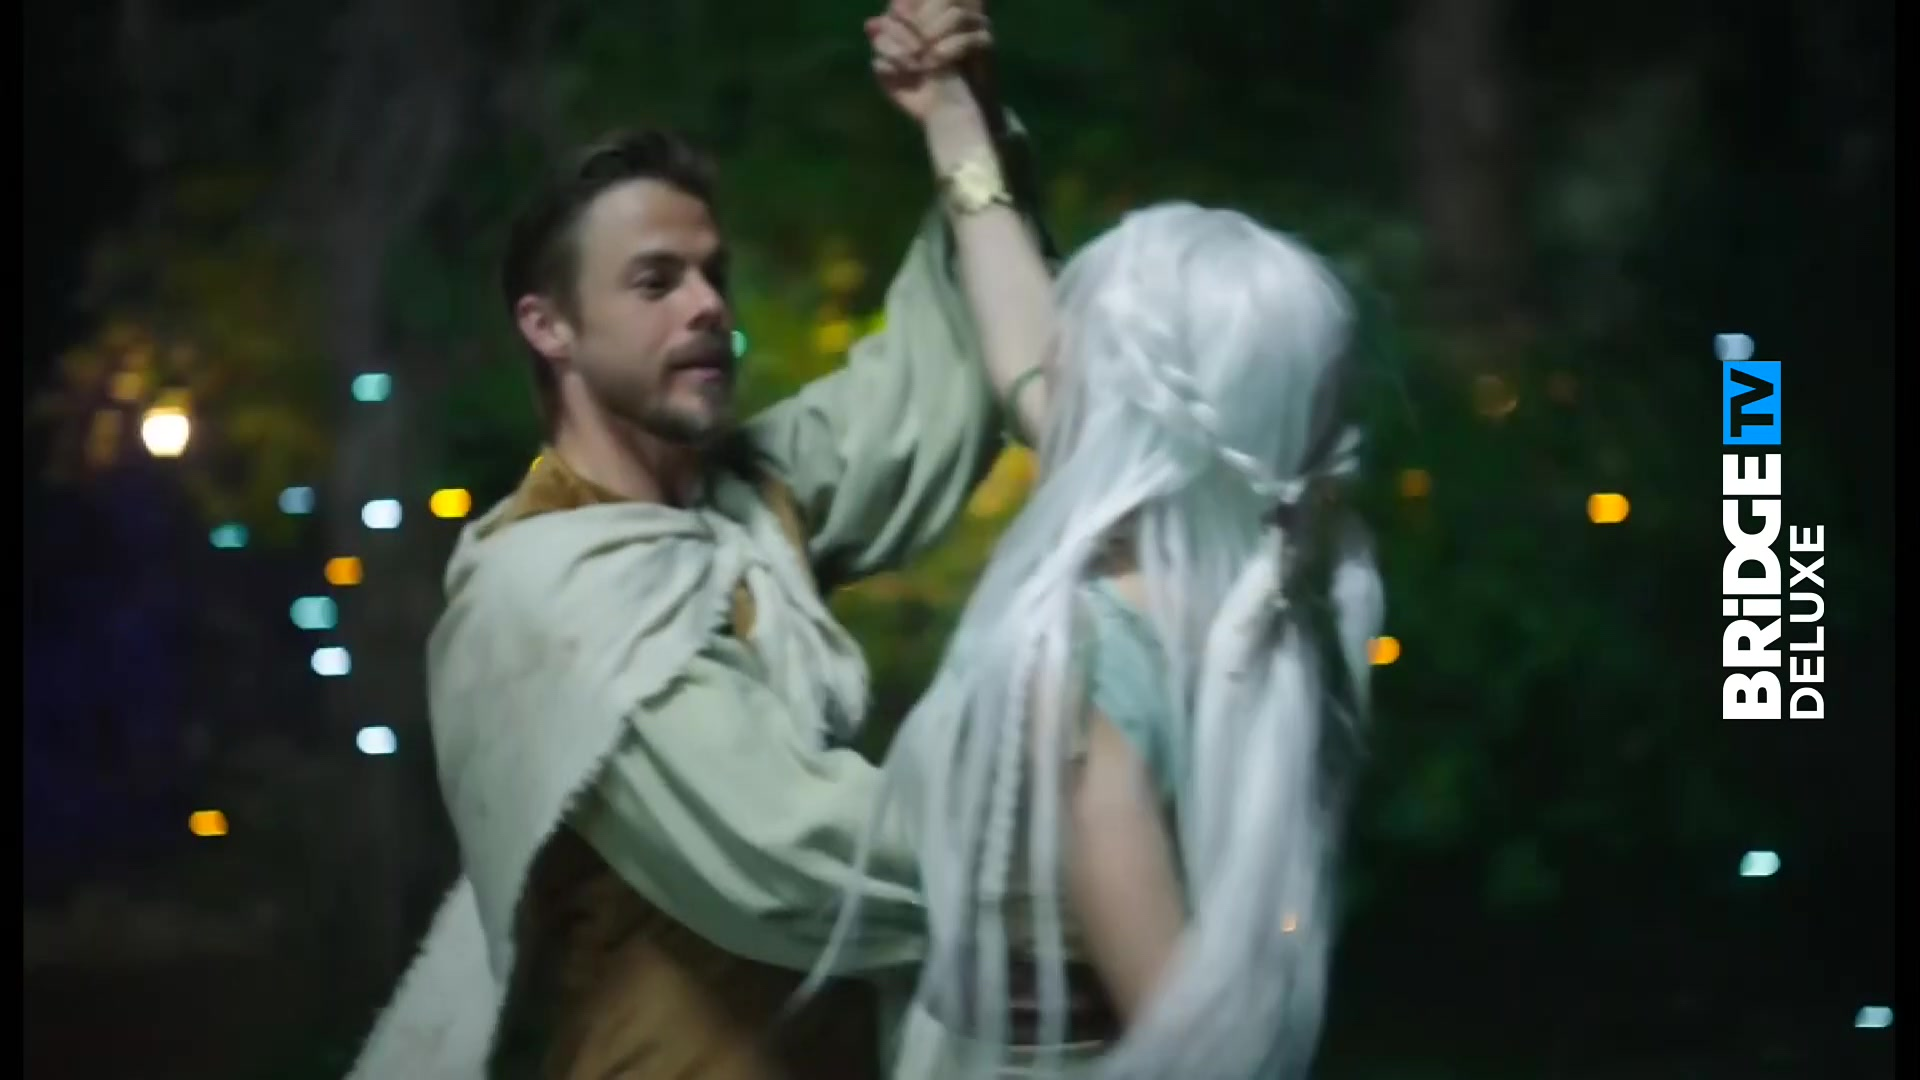Bridge_TV_Deluxe: (1718, 356, 1832, 731)
